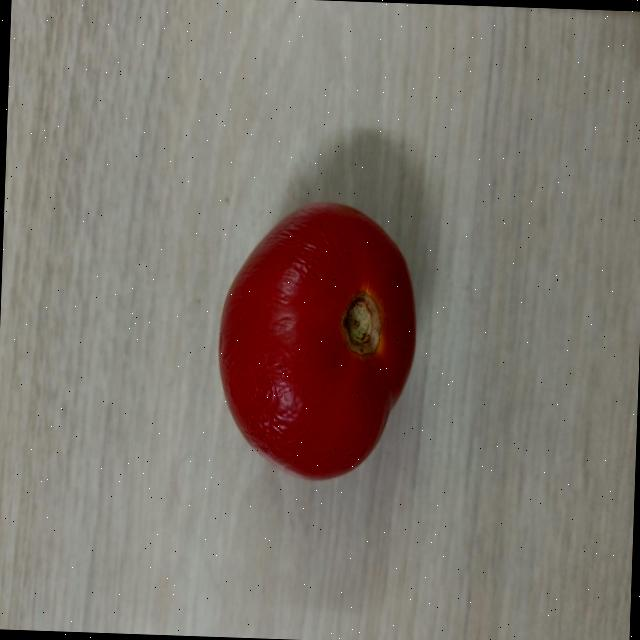Tomato: (210, 195, 423, 486)
